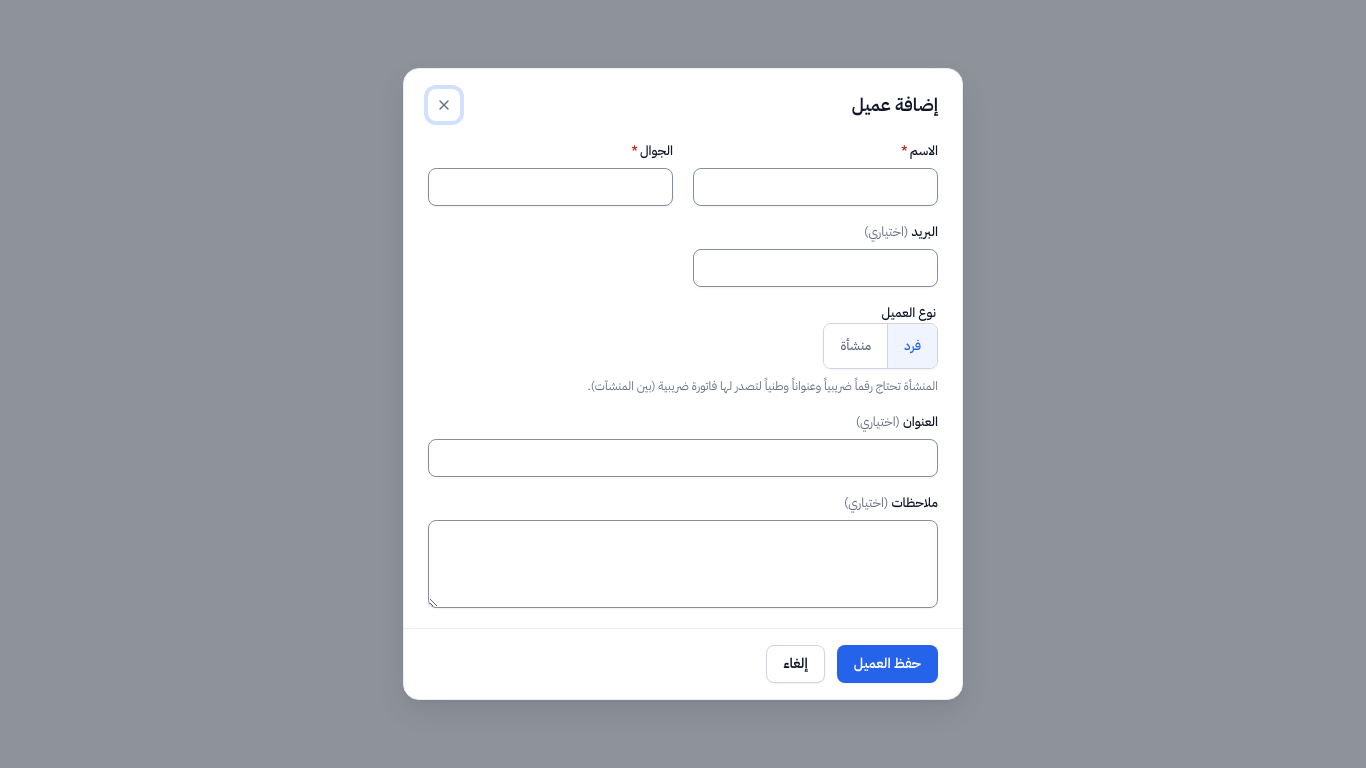
Test: customer dialog: business (B2B) data › shows the tax block only for a business customer
Expected: the text "البيانات الضريبية للعميل (للفواتير بين المنشآت)" is not shown
Click the button "منشأة" at (856, 346), box [824, 324, 888, 368]
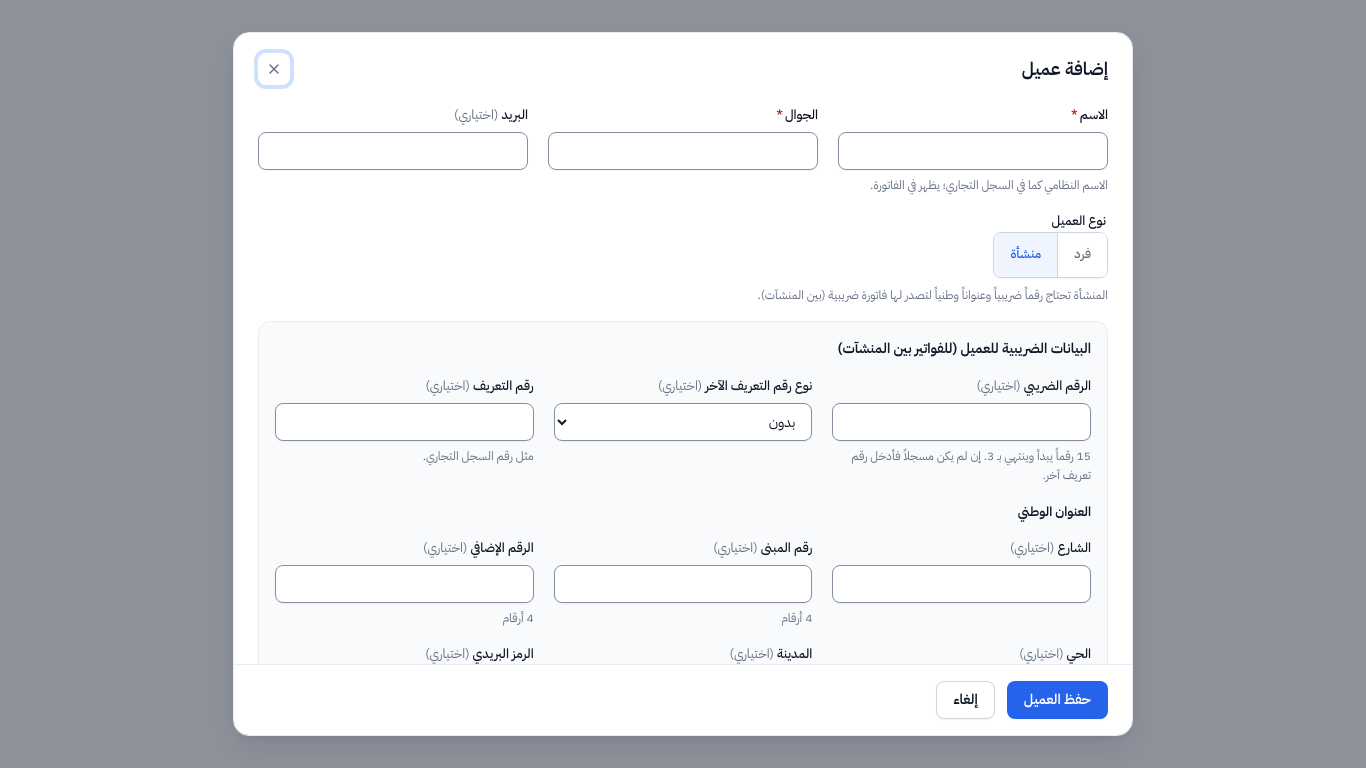
Result: the heading "البيانات الضريبية للعميل (للفواتير بين المنشآت)" is shown at [838, 338, 1091, 359]
